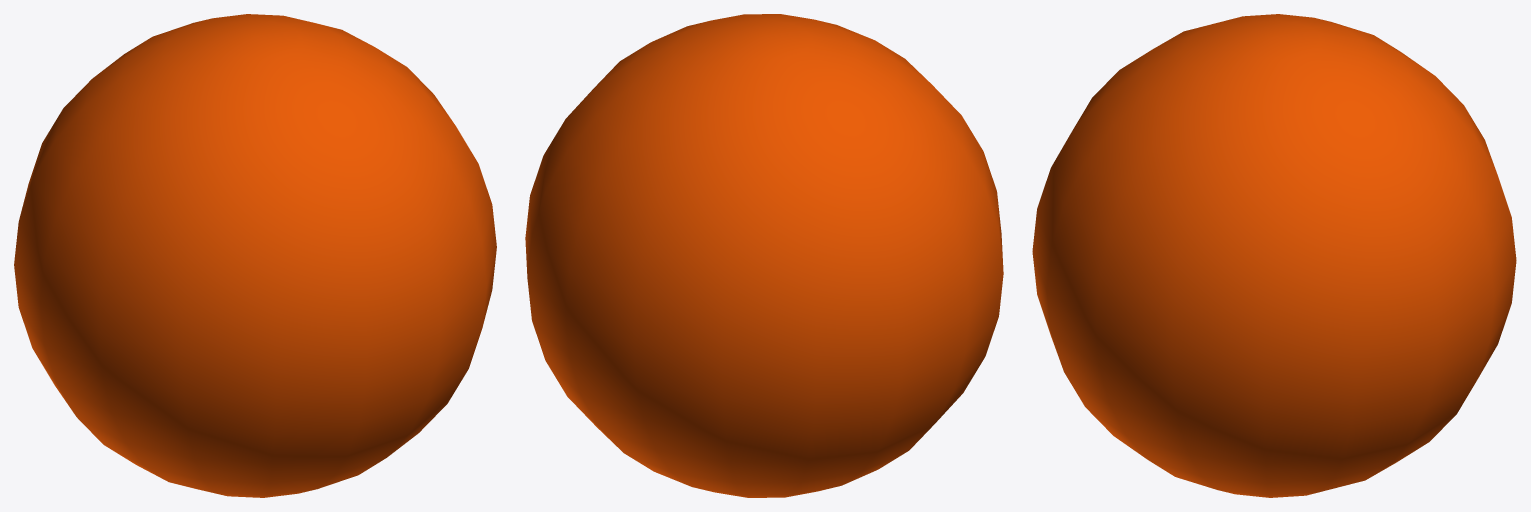
Rendered from orangeball2.fbx.
3 renders of one model, left to right at view 1: azimuth 30°, elevation 25°; view 2: azimuth 150°, elevation 25°; view 3: azimuth 270°, elevation 25°, orthographic.
Visible parts, largest first — view 1: lobby_new:lobby_object:pSphere7; view 2: lobby_new:lobby_object:pSphere7; view 3: lobby_new:lobby_object:pSphere7.
Boxes of the visible parts, left/top/right/bottom form: lobby_new:lobby_object:pSphere7: left=14, top=14, right=496, bottom=497; lobby_new:lobby_object:pSphere7: left=525, top=14, right=1003, bottom=497; lobby_new:lobby_object:pSphere7: left=1032, top=14, right=1516, bottom=497.
Size of the model in its own units: 116 by 116 by 116.
